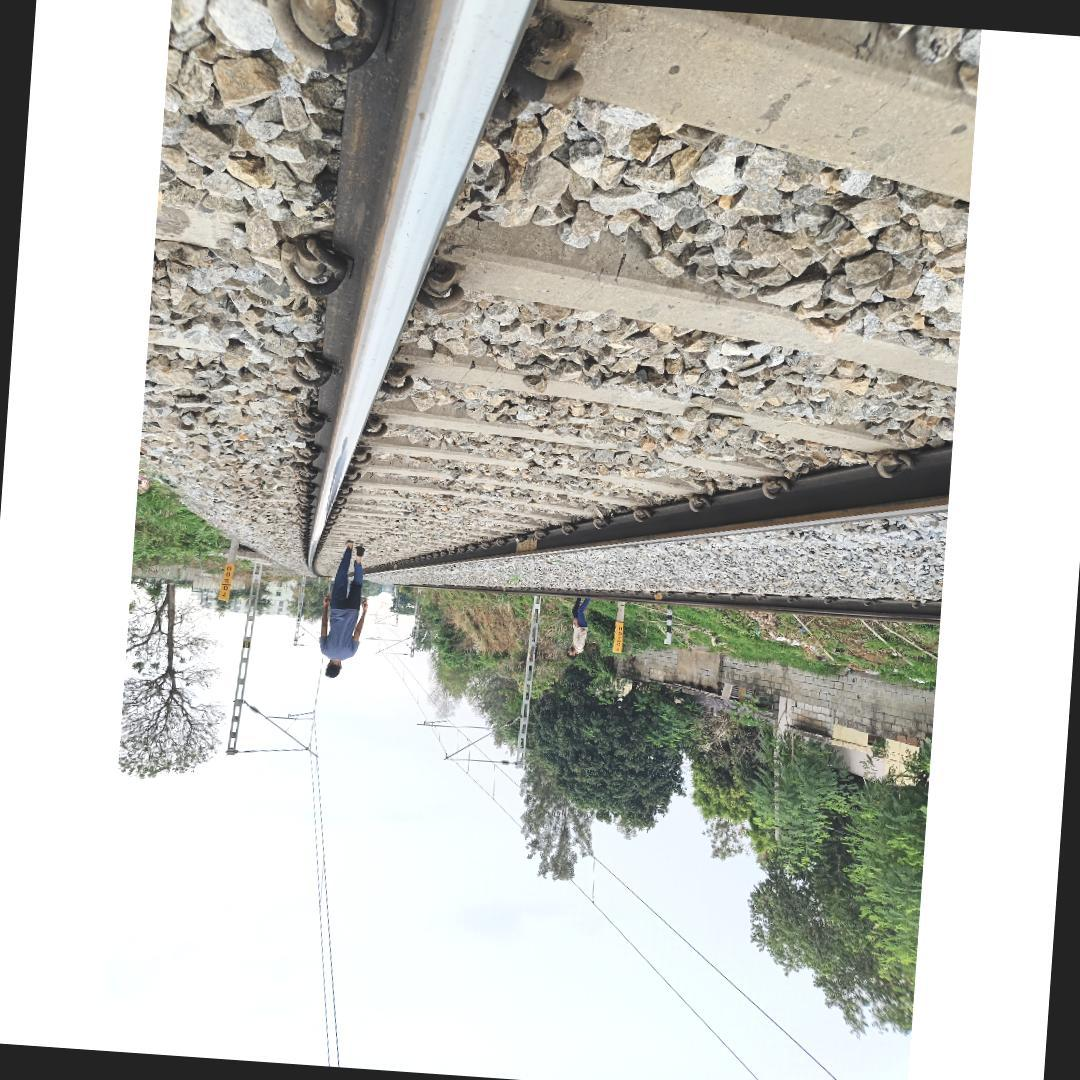standing: (314, 540, 373, 682), (565, 597, 592, 661)
track: (295, 0, 982, 584)
